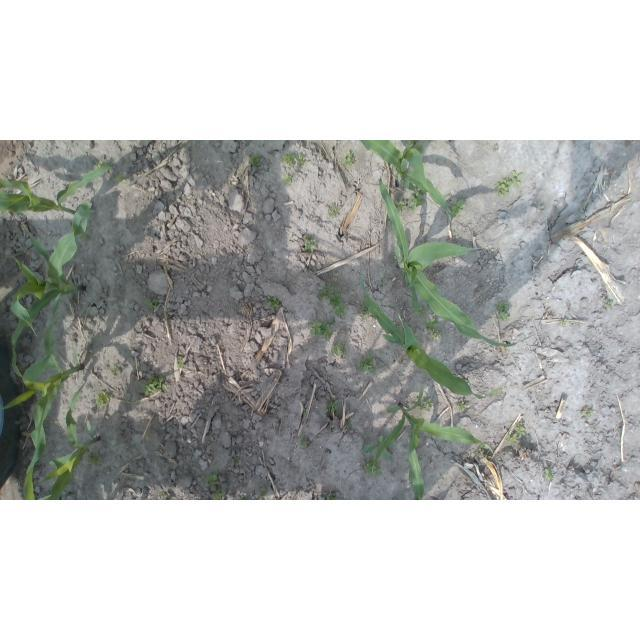Maize: (379, 177, 520, 347), (358, 269, 494, 401), (2, 292, 82, 500), (8, 202, 93, 379), (374, 385, 495, 500), (358, 140, 454, 222), (41, 385, 100, 500), (0, 164, 112, 217)
Weeds: (362, 436, 395, 461), (308, 319, 336, 341), (141, 376, 168, 397), (329, 292, 347, 317), (357, 355, 377, 374), (411, 189, 426, 212), (494, 178, 512, 197), (416, 397, 434, 415), (365, 461, 382, 477), (94, 392, 112, 407), (495, 302, 509, 321), (330, 340, 346, 356), (205, 472, 220, 489), (303, 235, 317, 253), (451, 199, 465, 217), (408, 140, 424, 154), (266, 295, 280, 311), (87, 451, 102, 465), (425, 318, 440, 332), (511, 170, 523, 187), (343, 150, 355, 166), (116, 171, 129, 185), (319, 284, 332, 298), (328, 204, 341, 217), (395, 199, 407, 213), (282, 153, 295, 165), (513, 424, 525, 437), (297, 152, 308, 166), (327, 400, 339, 412), (110, 364, 121, 377), (456, 401, 468, 412), (148, 299, 160, 310), (507, 434, 519, 445), (214, 489, 226, 500), (282, 172, 292, 184), (544, 467, 552, 481), (605, 299, 616, 309), (250, 155, 261, 165), (417, 305, 427, 316), (93, 161, 105, 170), (360, 309, 370, 319), (327, 493, 341, 500), (177, 356, 184, 369), (432, 332, 442, 341), (584, 409, 595, 417), (257, 492, 267, 500), (476, 448, 485, 456), (80, 234, 89, 242), (300, 438, 309, 446), (87, 208, 95, 216), (380, 279, 389, 286), (347, 422, 354, 431), (536, 204, 545, 210), (481, 443, 490, 449), (493, 388, 502, 394), (493, 144, 500, 151), (161, 494, 168, 500), (232, 460, 238, 466), (562, 319, 569, 324), (303, 409, 307, 416), (330, 428, 335, 433), (288, 280, 293, 285), (263, 484, 267, 489), (240, 497, 245, 500)
